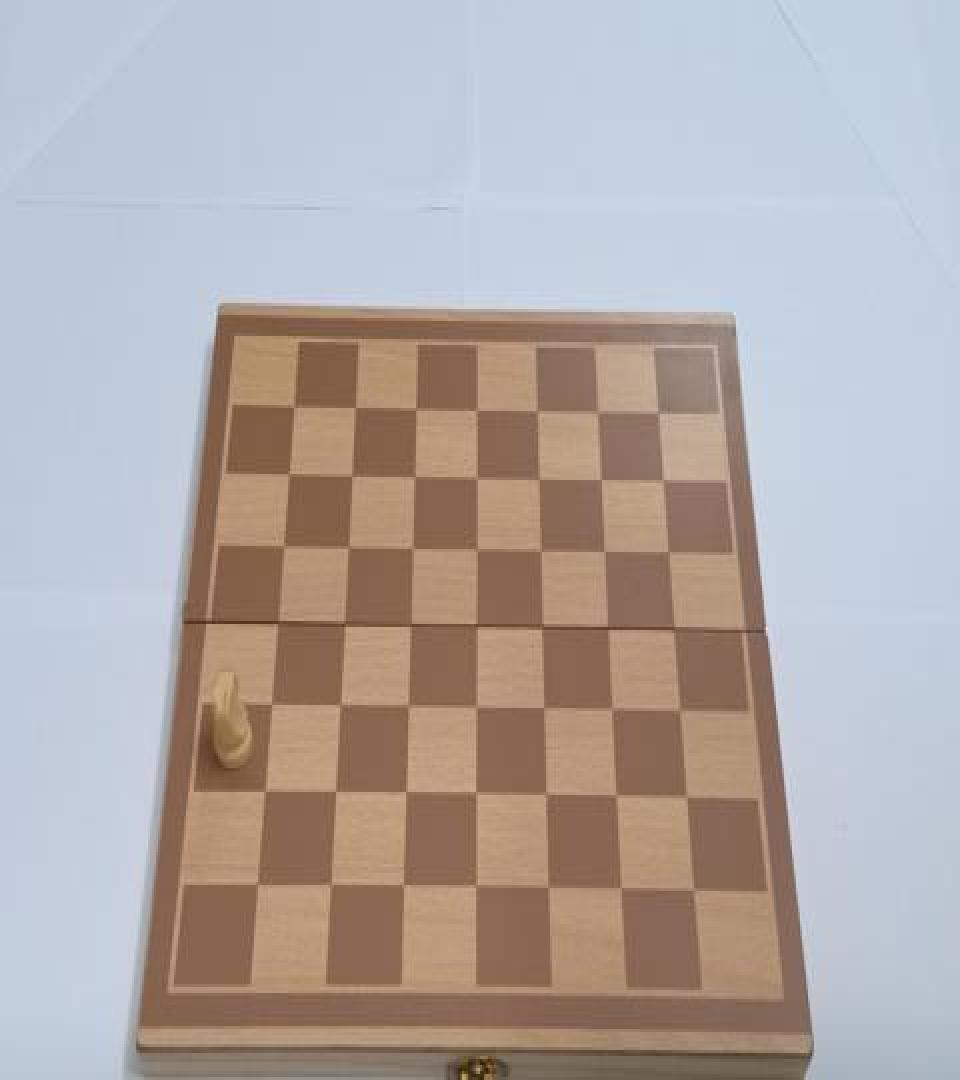xcorner: (285, 394, 303, 422), (345, 394, 363, 422), (398, 694, 416, 722), (467, 694, 485, 722), (593, 466, 611, 494), (279, 462, 297, 489), (274, 534, 292, 561), (268, 610, 286, 637), (255, 778, 273, 805), (334, 612, 352, 639), (330, 693, 348, 720), (325, 780, 343, 807), (321, 873, 339, 900), (406, 396, 424, 423), (401, 612, 419, 639), (394, 873, 412, 900), (467, 396, 485, 423), (467, 465, 485, 492), (467, 537, 485, 564), (467, 874, 485, 901), (528, 397, 546, 424), (530, 465, 548, 492), (532, 538, 550, 565), (534, 615, 552, 642), (536, 696, 554, 723), (538, 783, 556, 810), (540, 876, 558, 903), (589, 399, 607, 426), (596, 538, 614, 565), (600, 615, 618, 642), (609, 785, 627, 812), (650, 399, 668, 426), (655, 468, 673, 495), (661, 540, 679, 567), (667, 617, 685, 644), (673, 699, 691, 726), (680, 786, 698, 813), (687, 879, 705, 906), (261, 692, 279, 718), (247, 872, 265, 898), (342, 464, 360, 490), (338, 536, 356, 562), (405, 464, 423, 490), (403, 536, 421, 562), (396, 782, 414, 808), (467, 614, 485, 640), (467, 782, 485, 808), (604, 698, 622, 724), (614, 878, 632, 904)
